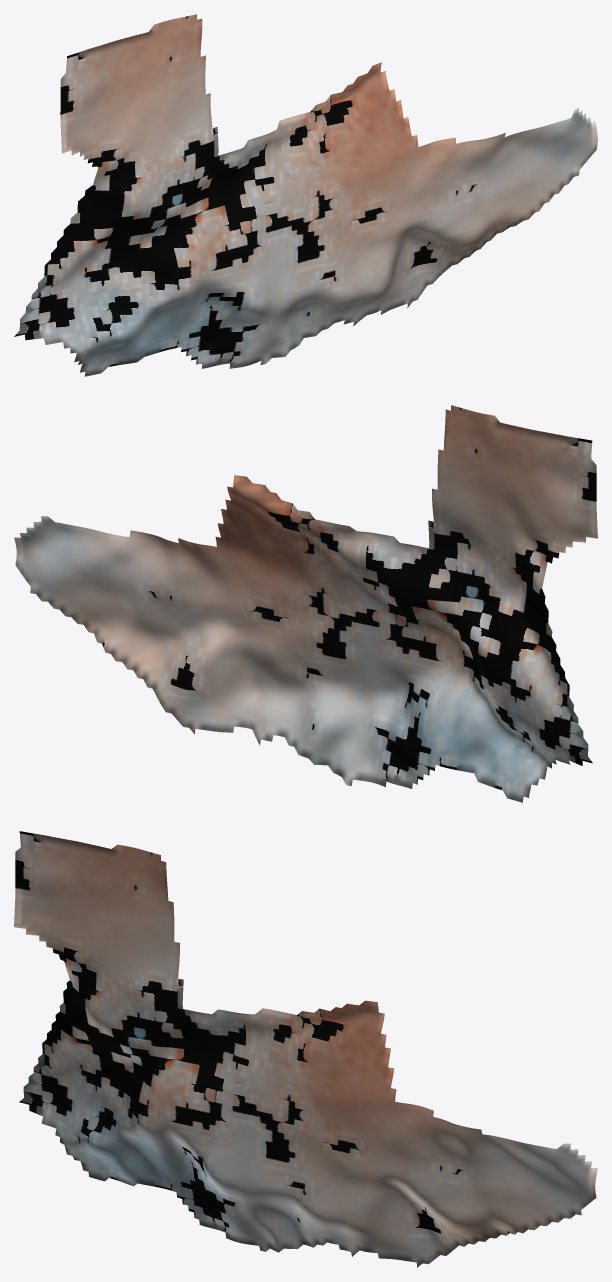
The model's file is tirumala_terrain_los_pair_05_17.glb.
3 renders of one model, top to bottom at view 1: azimuth 30°, elevation 25°; view 2: azimuth 150°, elevation 25°; view 3: azimuth 330°, elevation 25°, orthographic.
Visible parts, largest first — view 1: Tirumala_Terrain_Mesh; view 2: Tirumala_Terrain_Mesh; view 3: Tirumala_Terrain_Mesh.
Part boxes in pixels (<box>): Tirumala_Terrain_Mesh: <box>14,14,597,376</box>; Tirumala_Terrain_Mesh: <box>14,405,597,802</box>; Tirumala_Terrain_Mesh: <box>14,831,597,1267</box>.
Bounding box in the file's own units: 8560 × 5440 × 719.
1 material, 1 textured.
